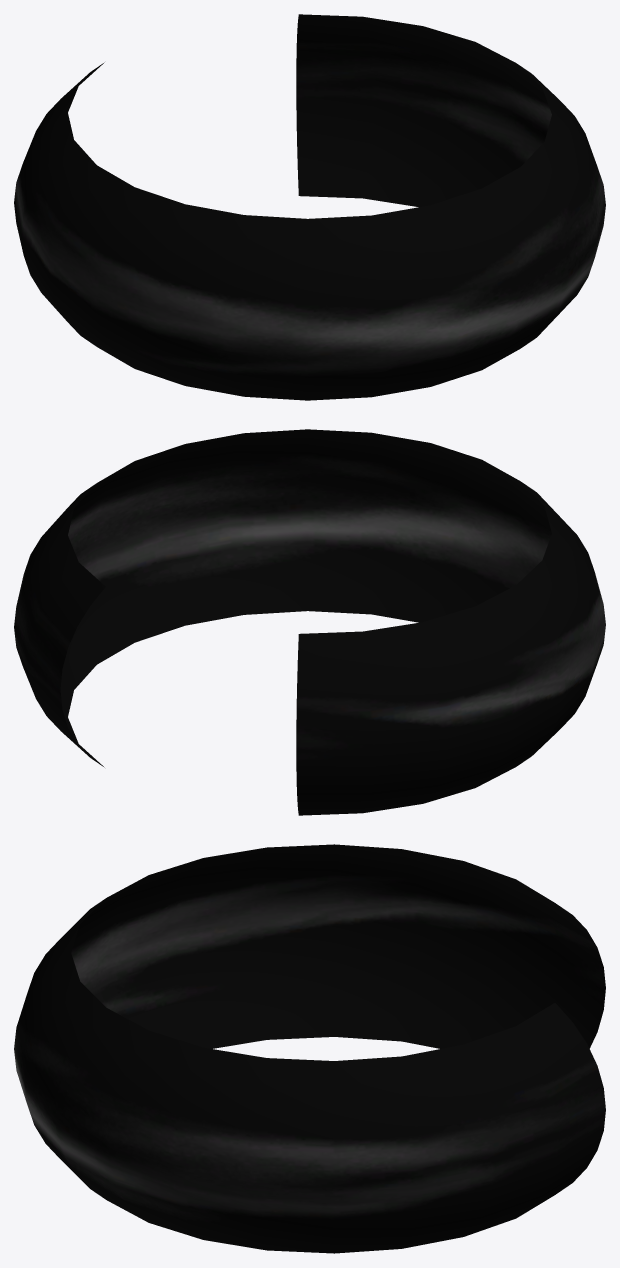
The model's file is Q_Tornado_2.fbx.
The picture shows the model from 3 angles, top to bottom: view 1: azimuth 30°, elevation 25°; view 2: azimuth 150°, elevation 25°; view 3: azimuth 270°, elevation 25°; orthographic projection. The views are drawn at different scales.
Parts seen in each view (by area): view 1: _riot_perforce_champion_devroot_data_characters_yasuo_skins_; view 2: _riot_perforce_champion_devroot_data_characters_yasuo_skins_; view 3: _riot_perforce_champion_devroot_data_characters_yasuo_skins_.
Boxes of the visible parts, x1=… form: _riot_perforce_champion_devroot_data_characters_yasuo_skins_: x1=14, y1=14, x2=605, y2=400; _riot_perforce_champion_devroot_data_characters_yasuo_skins_: x1=14, y1=429, x2=605, y2=815; _riot_perforce_champion_devroot_data_characters_yasuo_skins_: x1=14, y1=844, x2=605, y2=1253.
Size of the model in its own units: 133 by 45.05 by 126.
